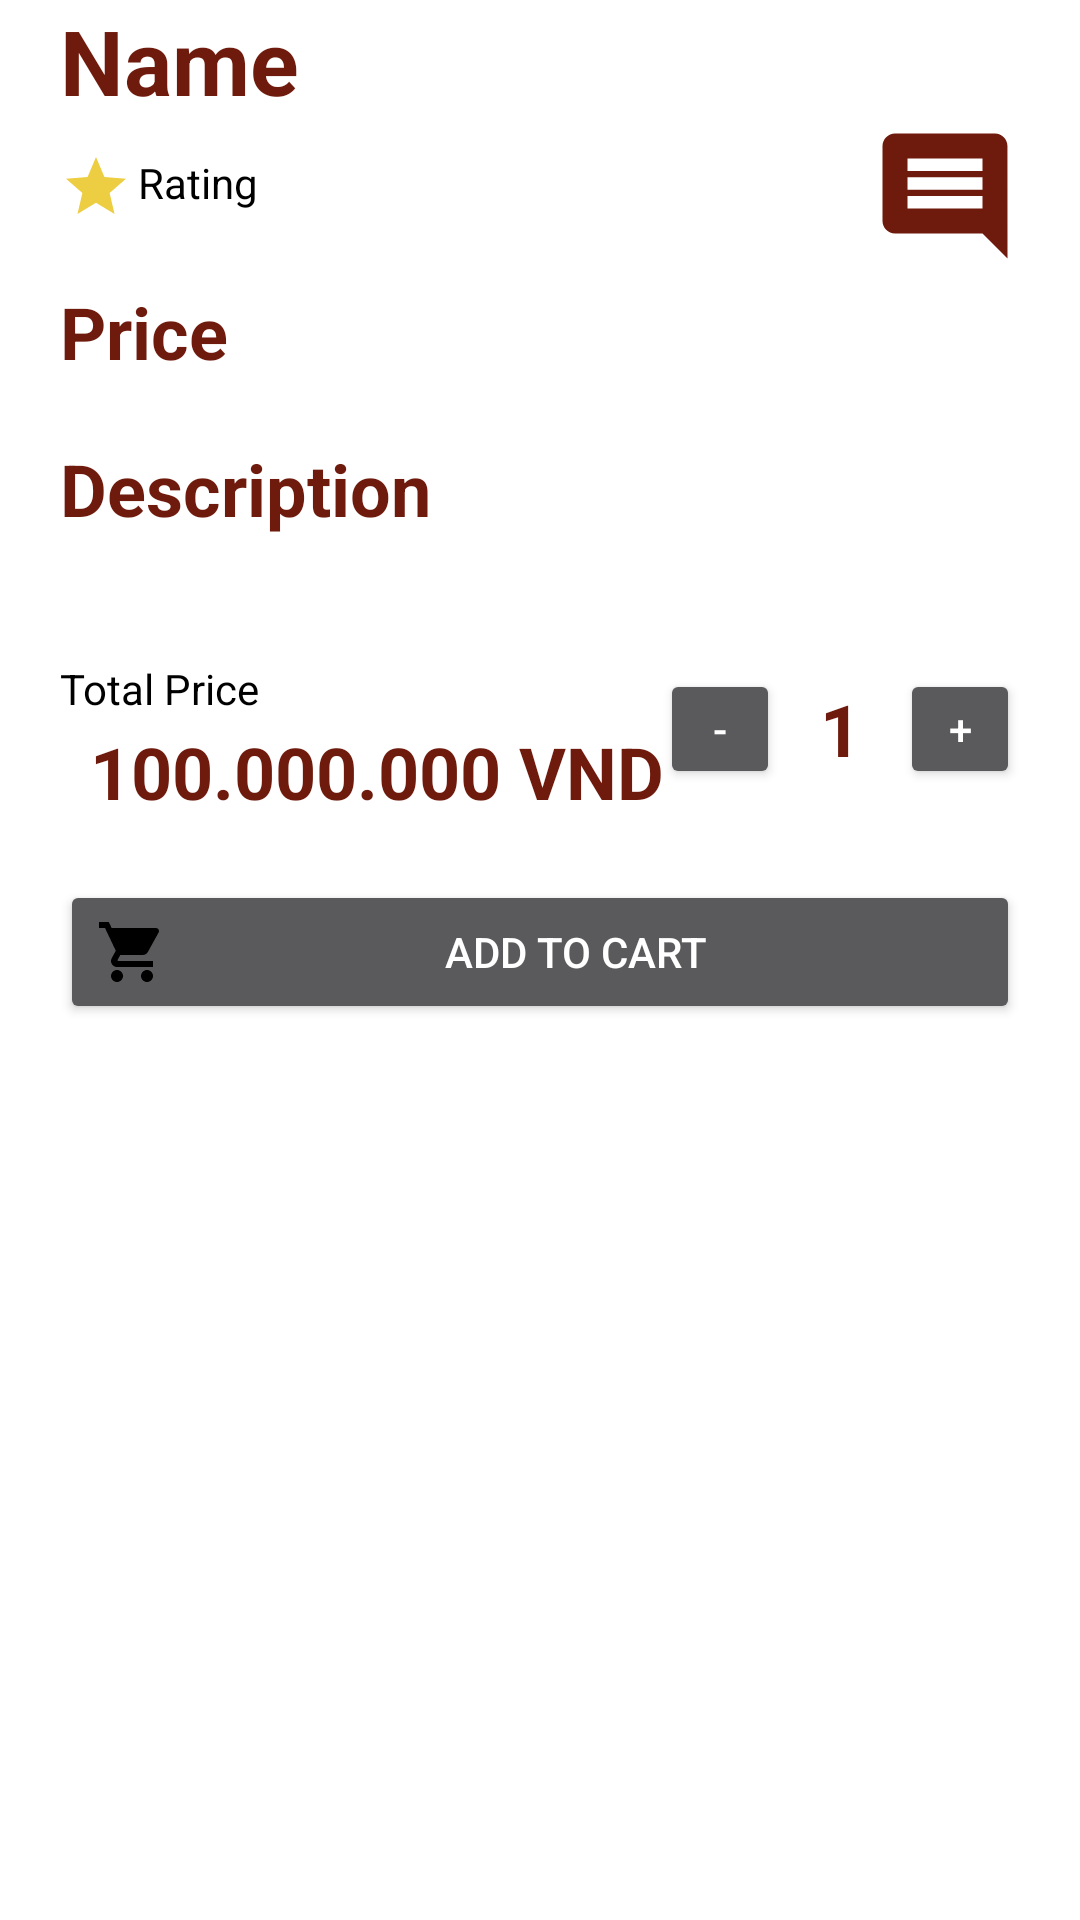

Named icons in this screenshot (1080 × 1920) and their bounding boxes, (x1, y1, x2, y2):
comment: (882, 133, 1008, 259)
star: (66, 157, 126, 214)
